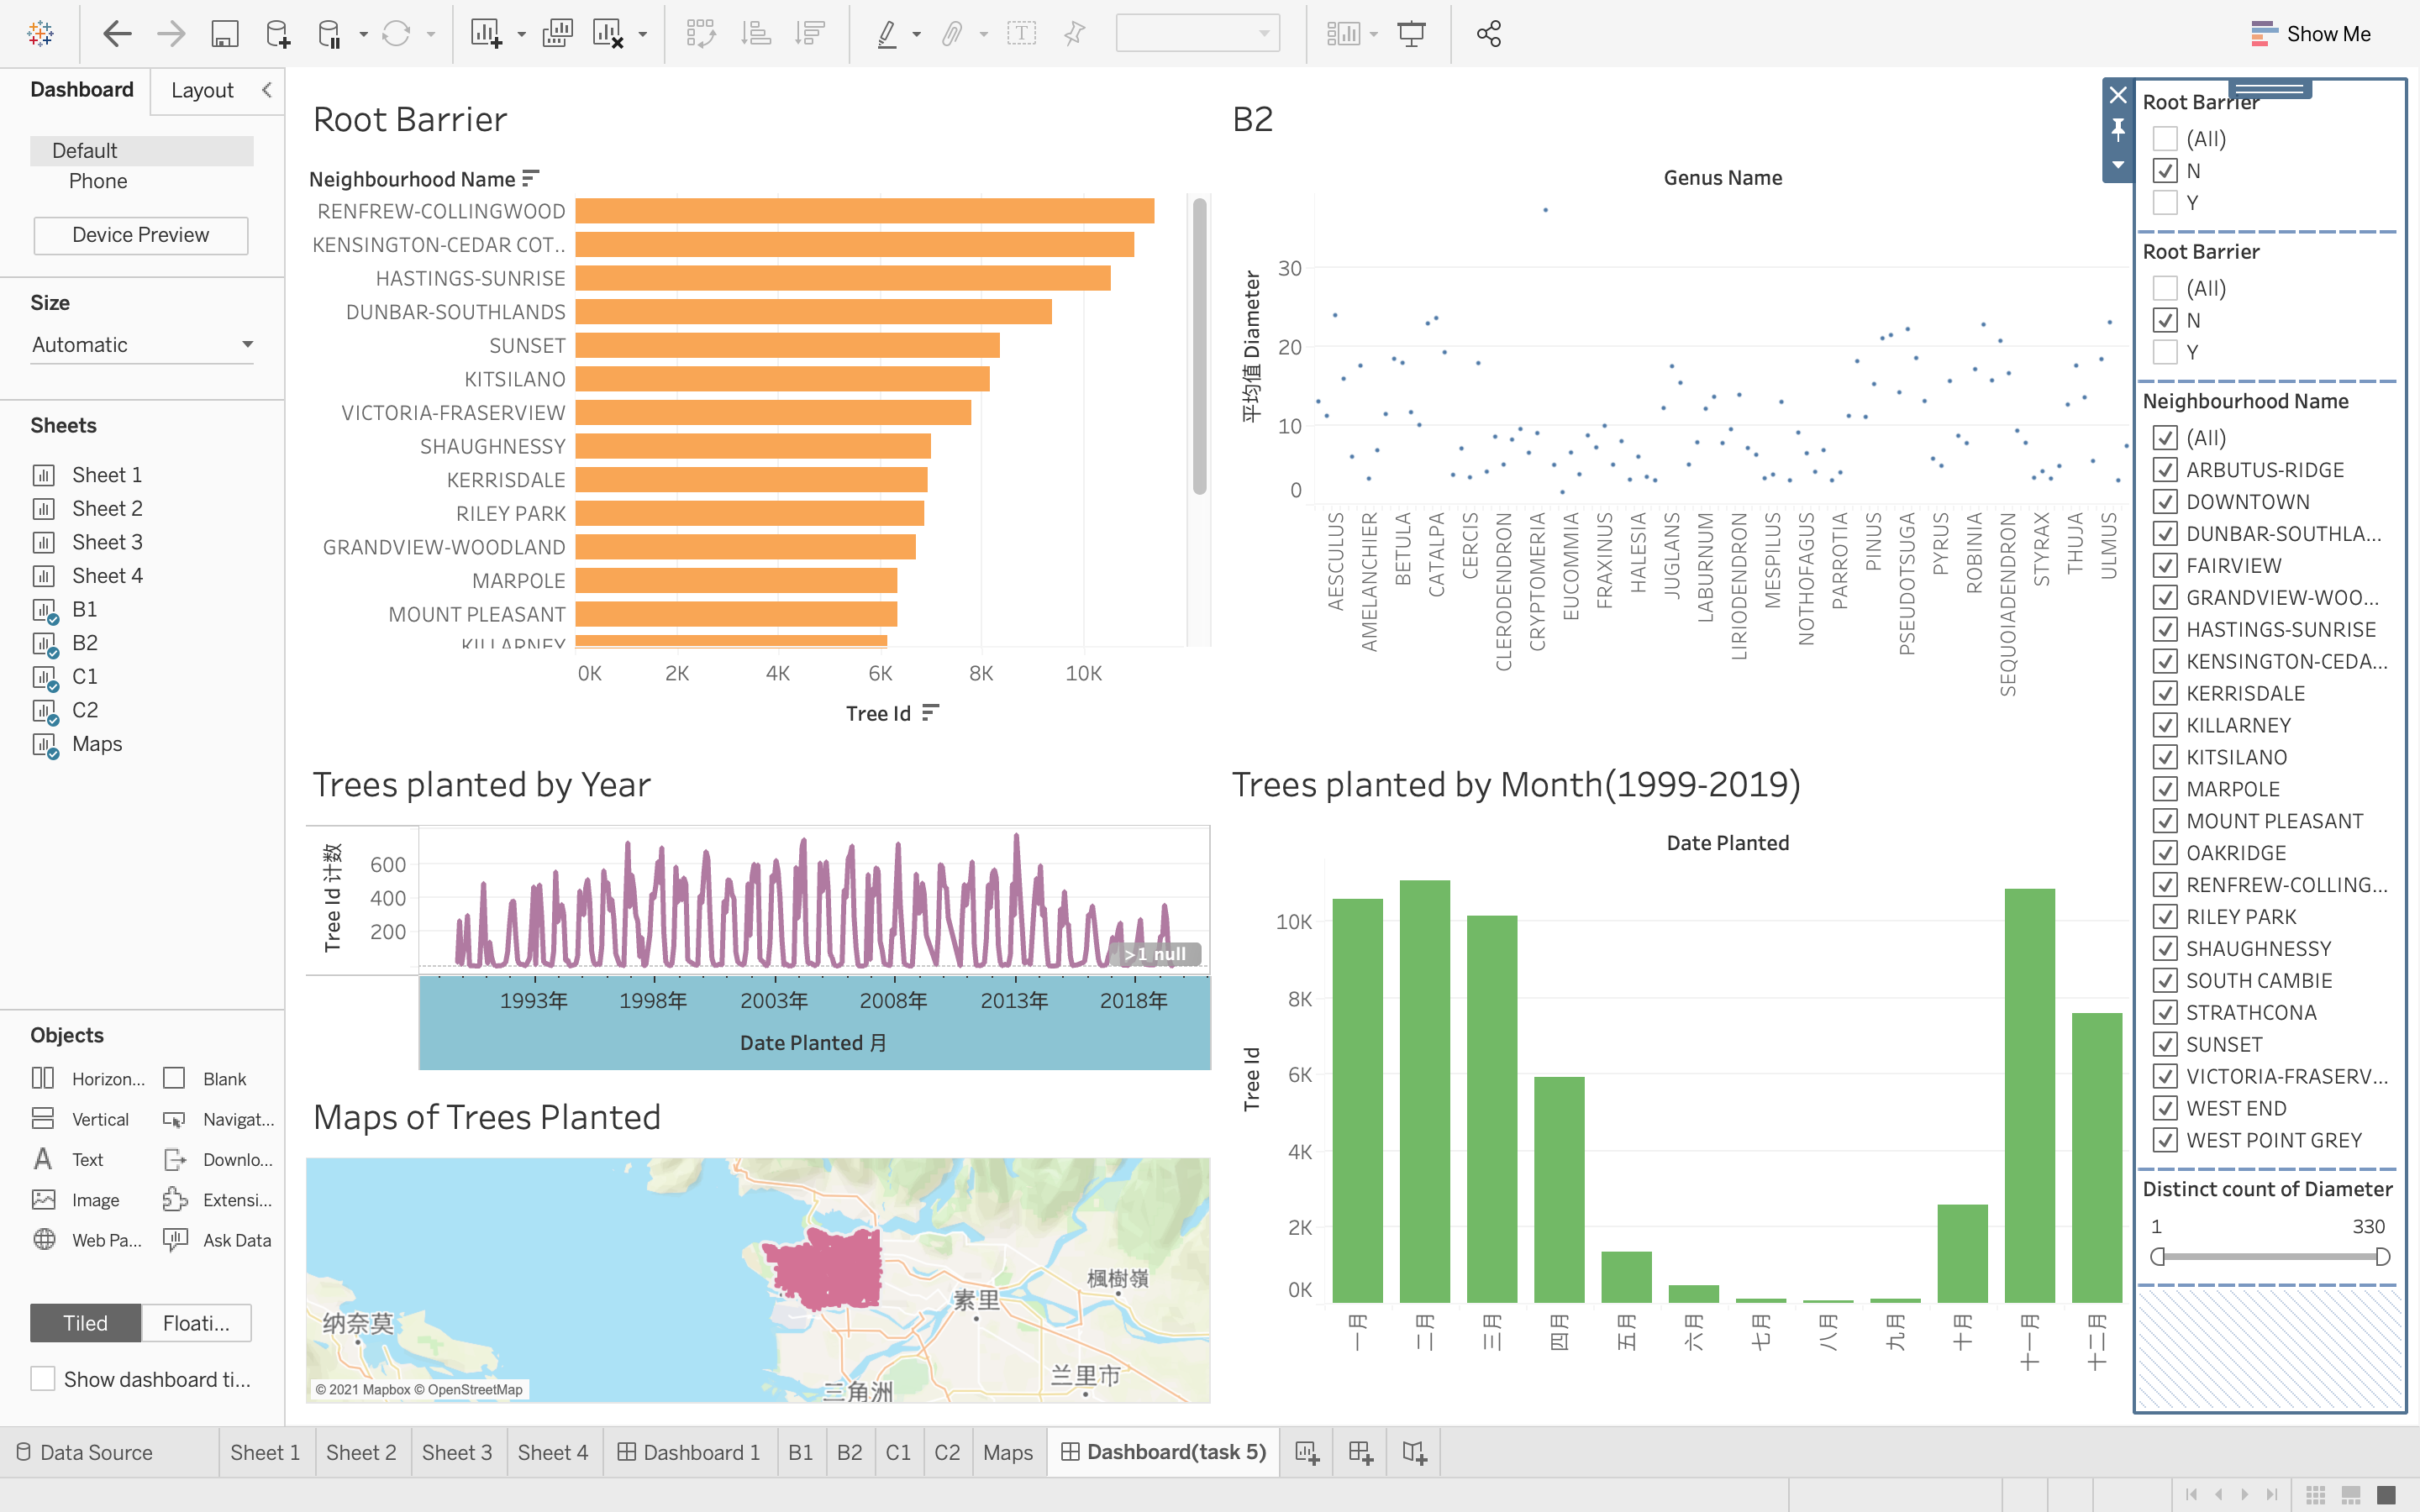

This screenshot's page, from the dashboard's own definition file:
{"tool":"tableau","page":{"name":"Dashboard(task 5)","canvas":[1000,1000],"units":"permille","ordinal":0},"visuals":[{"type":"worksheet","title":"B1","mark":"Automatic","rows":["neighbourhood_name"],"cols":["tree_id"],"box":[6.5,11.3,428.4,488.7]},{"type":"worksheet","title":"B2","mark":"Circle","rows":["diameter"],"cols":["genus_name"],"box":[434.9,11.3,428.4,488.7]},{"type":"filter","title":"B2","param":"[federated.0050g691c4uw0d1dg9dxv17qmwgh].[none:root_barrier:nk]","box":[863.3,11.3,130.2,125.5]},{"type":"filter","title":"C2","param":"[federated.0050g691c4uw0d1dg9dxv17qmwgh].[none:root_barrier:nk]","box":[863.3,136.8,130.2,125.5]},{"type":"filter","title":"B1","param":"[federated.0050g691c4uw0d1dg9dxv17qmwgh].[none:neighbourhood_name:nk]","box":[863.3,262.3,130.2,629.1]},{"type":"worksheet","title":"C1","mark":"Automatic","rows":["tree_id","tree_id"],"cols":["date_planted"],"box":[6.5,500,428.4,244.4]},{"type":"worksheet","title":"C2","mark":"Bar","rows":["tree_id"],"cols":["date_planted"],"box":[434.9,500,428.4,488.7]},{"type":"worksheet","title":"Maps","mark":"Automatic","rows":["latitude"],"cols":["longitude"],"box":[6.5,744.4,428.4,244.4]},{"type":"filter","title":"B2","param":"[federated.0050g691c4uw0d1dg9dxv17qmwgh].[ctd:diameter:qk]","box":[863.3,891.4,130.2,97.3]}]}

Visuals, with their boxes on the dashboard's canvas, which has no fixed pixel size, in thousandths of its width and height (x1, y1, x2, y2). These are canvas units, not pixel positions in the 2420x1512 screenshot, which may show the page scaled, cropped or inside an application window:
"B1" worksheet: x1=6, y1=11, x2=435, y2=500
"B2" worksheet (Circle marks): x1=435, y1=11, x2=863, y2=500
"B2" filter: x1=863, y1=11, x2=994, y2=137
"C2" filter: x1=863, y1=137, x2=994, y2=262
"B1" filter: x1=863, y1=262, x2=994, y2=891
"C1" worksheet: x1=6, y1=500, x2=435, y2=744
"C2" worksheet (Bar marks): x1=435, y1=500, x2=863, y2=989
"Maps" worksheet: x1=6, y1=744, x2=435, y2=989
"B2" filter: x1=863, y1=891, x2=994, y2=989
